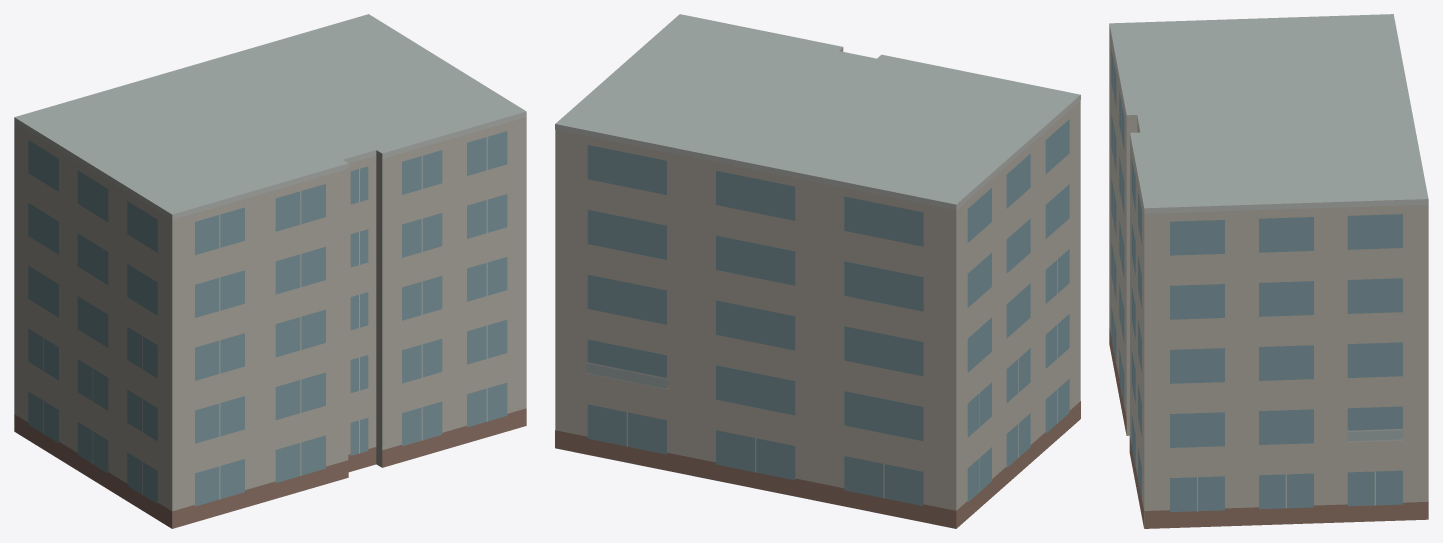
The model's file is survey-upis-32755817.glb.
The picture shows the model from 3 angles, left to right: view 1: azimuth 30°, elevation 25°; view 2: azimuth 150°, elevation 25°; view 3: azimuth 270°, elevation 25°; orthographic projection. The views are drawn at different scales.
Visible parts, largest first — view 1: survey-upis-32755817.tmp; view 2: survey-upis-32755817.tmp; view 3: survey-upis-32755817.tmp.
Part boxes in pixels (box(x1,y1,x2,y2)): survey-upis-32755817.tmp: box(14, 14, 526, 528); survey-upis-32755817.tmp: box(555, 14, 1080, 528); survey-upis-32755817.tmp: box(1109, 14, 1428, 528).
Size of the model in its own units: 18.33 by 14.1 by 12.73.
